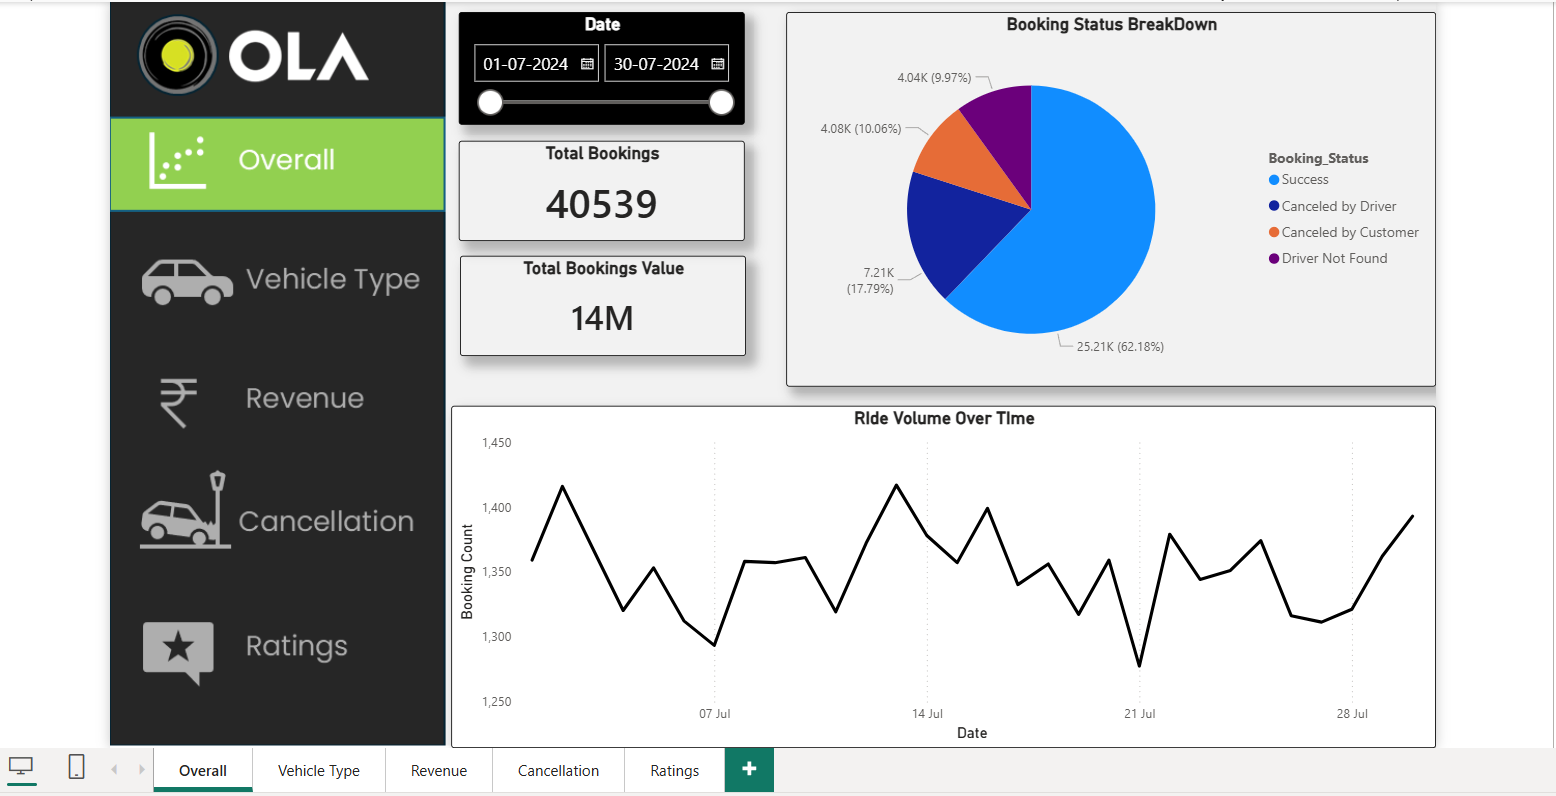

The page's visual inventory and layout, read from the dashboard file:
{"tool":"powerbi","page":{"name":"Overall","canvas":[1280,720],"ordinal":0},"visuals":[{"type":"actionButton","box":[0,579.1,326.9,96.5],"z":0},{"type":"actionButton","box":[0,579.1,326.9,96.5],"z":1},{"type":"actionButton","box":[0,460.9,326.9,96.5],"z":2},{"type":"actionButton","box":[2.4,341.4,326.9,96.5],"z":3},{"type":"actionButton","box":[0,230.4,326.9,96.5],"z":4},{"type":"lineChart","title":"RIde Volume Over TIme","fields":{"Y":["CountNonNull(Booking.Booking_ID)"],"Category":["Booking.Date"]},"box":[329.4,389.7,950.7,330.6],"z":5},{"type":"pieChart","title":"Booking Status BreakDown","fields":{"Category":["Booking.Booking_Status"],"Y":["CountNonNull(Booking.Booking_Status)"]},"box":[652.7,9.7,627.3,361.9],"z":7},{"type":"slicer","title":"Date","fields":{"Values":["Booking.Date"]},"box":[336.6,9.7,276.3,108.6],"z":8},{"type":"cardVisual","title":"Total Bookings","fields":{"Data":["CountNonNull(Booking.Booking_ID)"]},"box":[336.6,133.9,276.3,96.5],"z":9},{"type":"cardVisual","title":"Total Bookings Value","fields":{"Data":["Sum(Booking.Booking_Value)"]},"box":[337.8,244.9,276.3,96.5],"z":10}]}

Visuals, with their boxes on the page's 1280x720 design canvas (x1, y1, x2, y2). These are canvas units, not pixel positions in the 1556x796 screenshot, which may show the page scaled, cropped or inside an application window:
actionButton: detection(0, 579, 327, 676)
actionButton: detection(0, 579, 327, 676)
actionButton: detection(0, 461, 327, 557)
actionButton: detection(2, 341, 329, 438)
actionButton: detection(0, 230, 327, 327)
"RIde Volume Over TIme" lineChart: detection(329, 390, 1280, 720)
"Booking Status BreakDown" pieChart: detection(653, 10, 1280, 372)
"Date" slicer: detection(337, 10, 613, 118)
"Total Bookings" cardVisual: detection(337, 134, 613, 230)
"Total Bookings Value" cardVisual: detection(338, 245, 614, 341)
